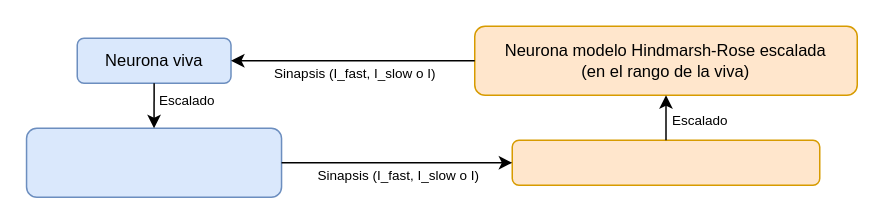
Some shapes in this 884 by 224 pixel diagram are drawn without their labels. Each missing label, with the centre of its shape:
Neurona modelo Hindmarsh-Rose: the point at 665,162
Neurona viva escalada (en el rango del modelo): the point at 153,162
